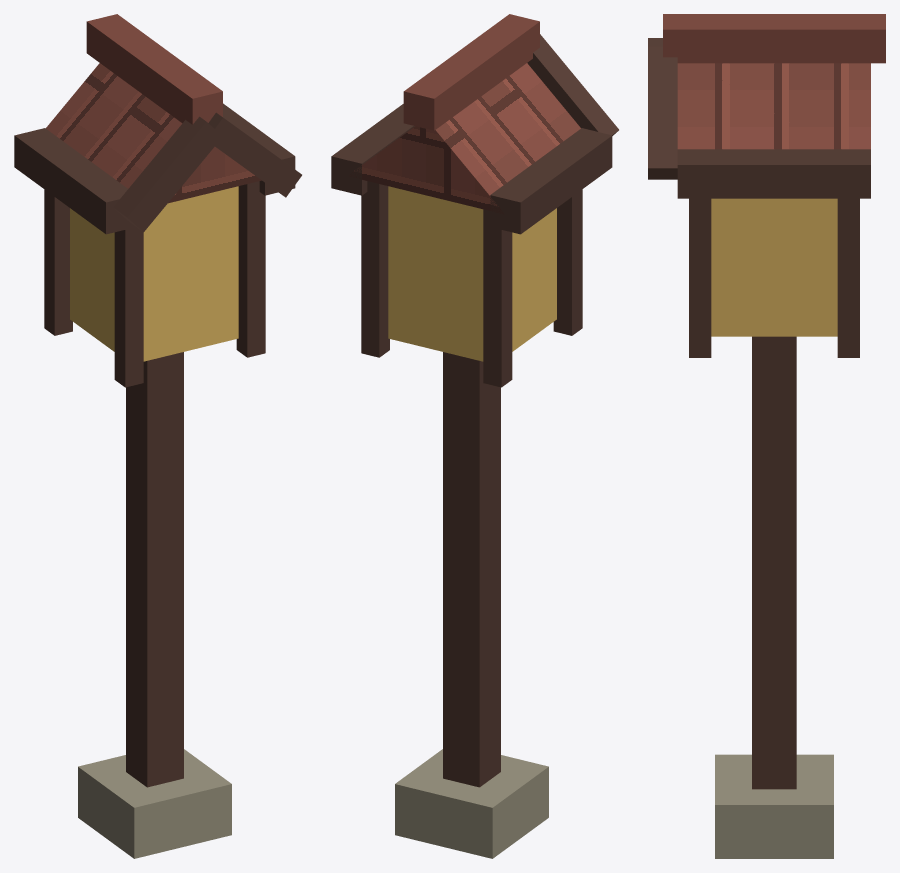
Rendered from lamp.glb.
The picture shows the model from 3 angles, left to right: view 1: azimuth 30°, elevation 25°; view 2: azimuth 150°, elevation 25°; view 3: azimuth 270°, elevation 25°; orthographic projection. The views are drawn at different scales.
Parts seen in each view (by area): view 1: village_lamp; view 2: village_lamp; view 3: village_lamp.
Boxes of the visible parts, <box> form: village_lamp: <box>14,14,301,858</box>; village_lamp: <box>331,14,618,858</box>; village_lamp: <box>648,14,885,858</box>.
Bounding box in the file's own units: 15.5 × 60.25 × 16.
5 materials, 1 textured.
